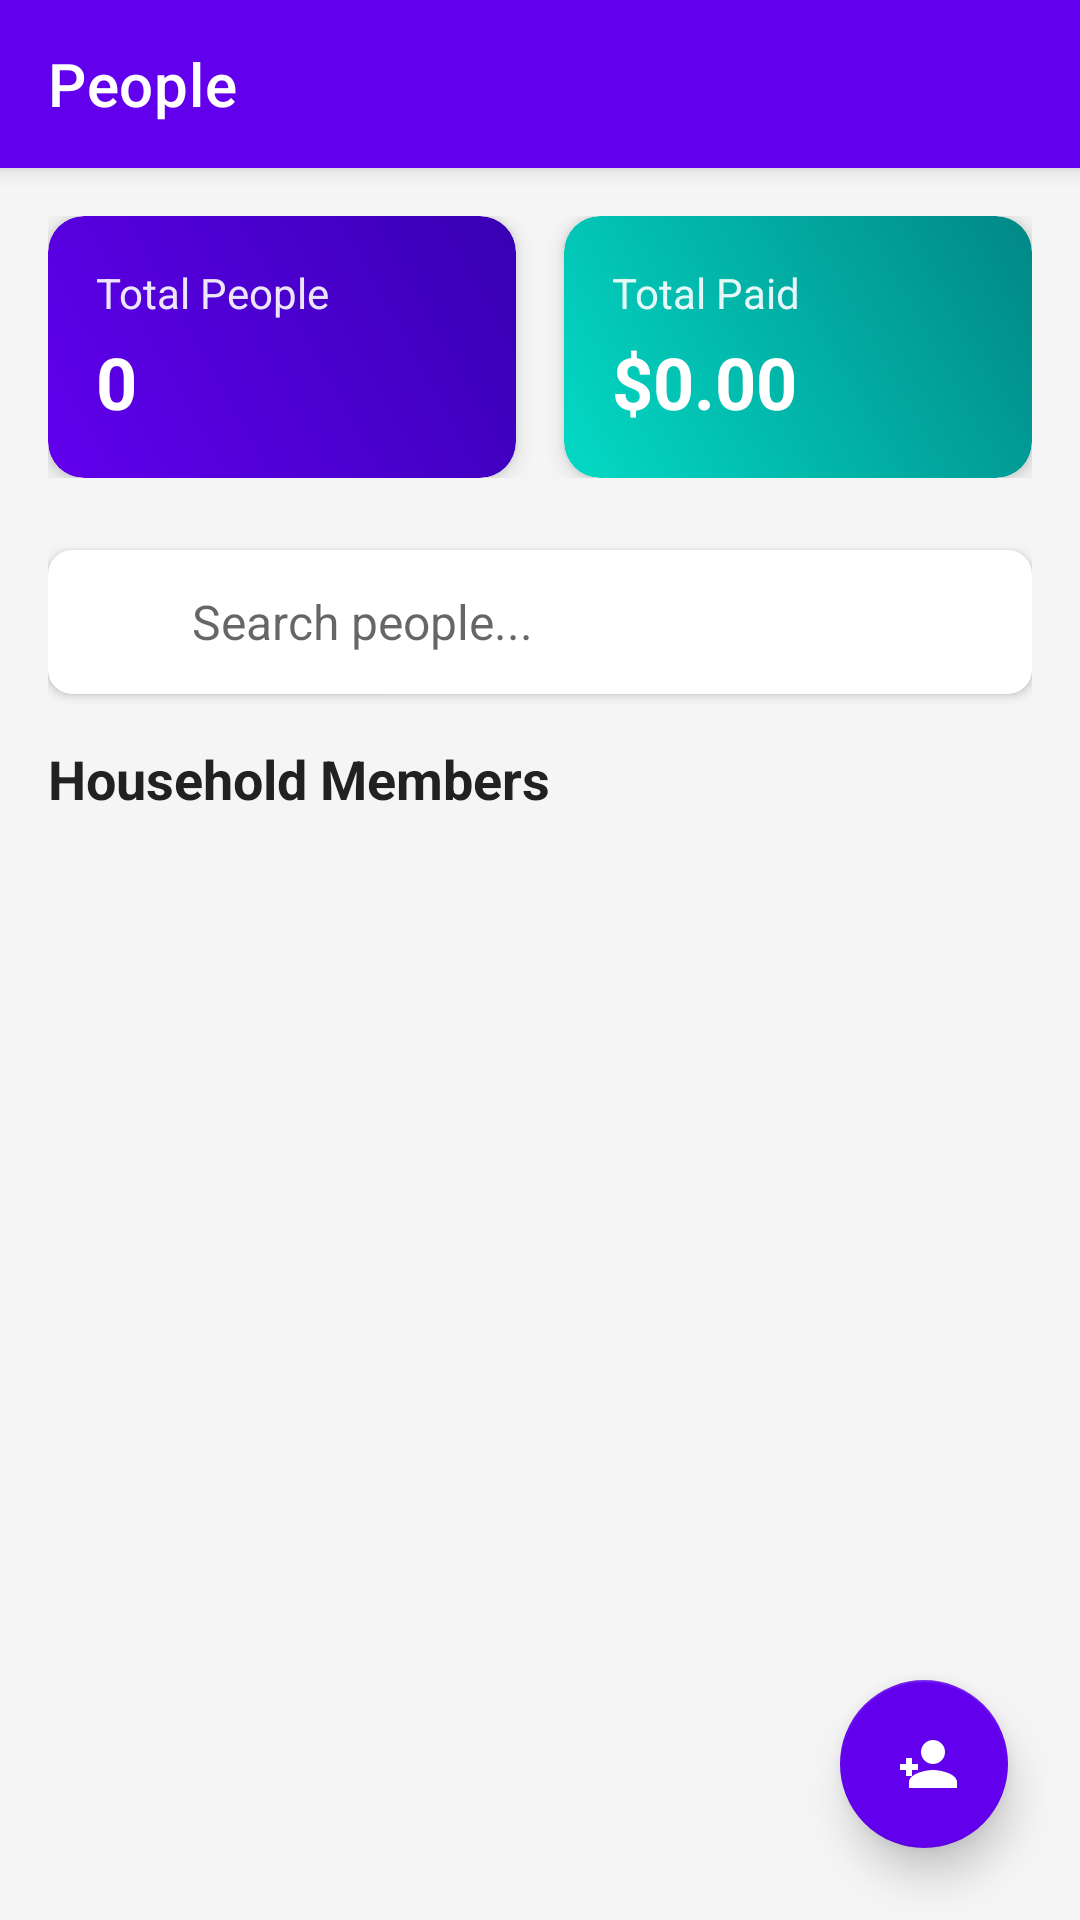

Icons on this 1080x1920 Android screen, each with the point to tap as (x=x, y=y):
add person: (x=924, y=1764)
